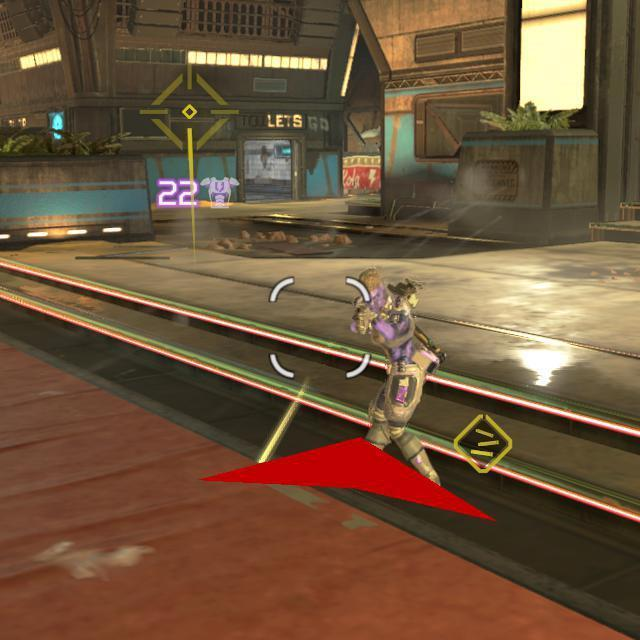avatar: (349, 267, 442, 491)
